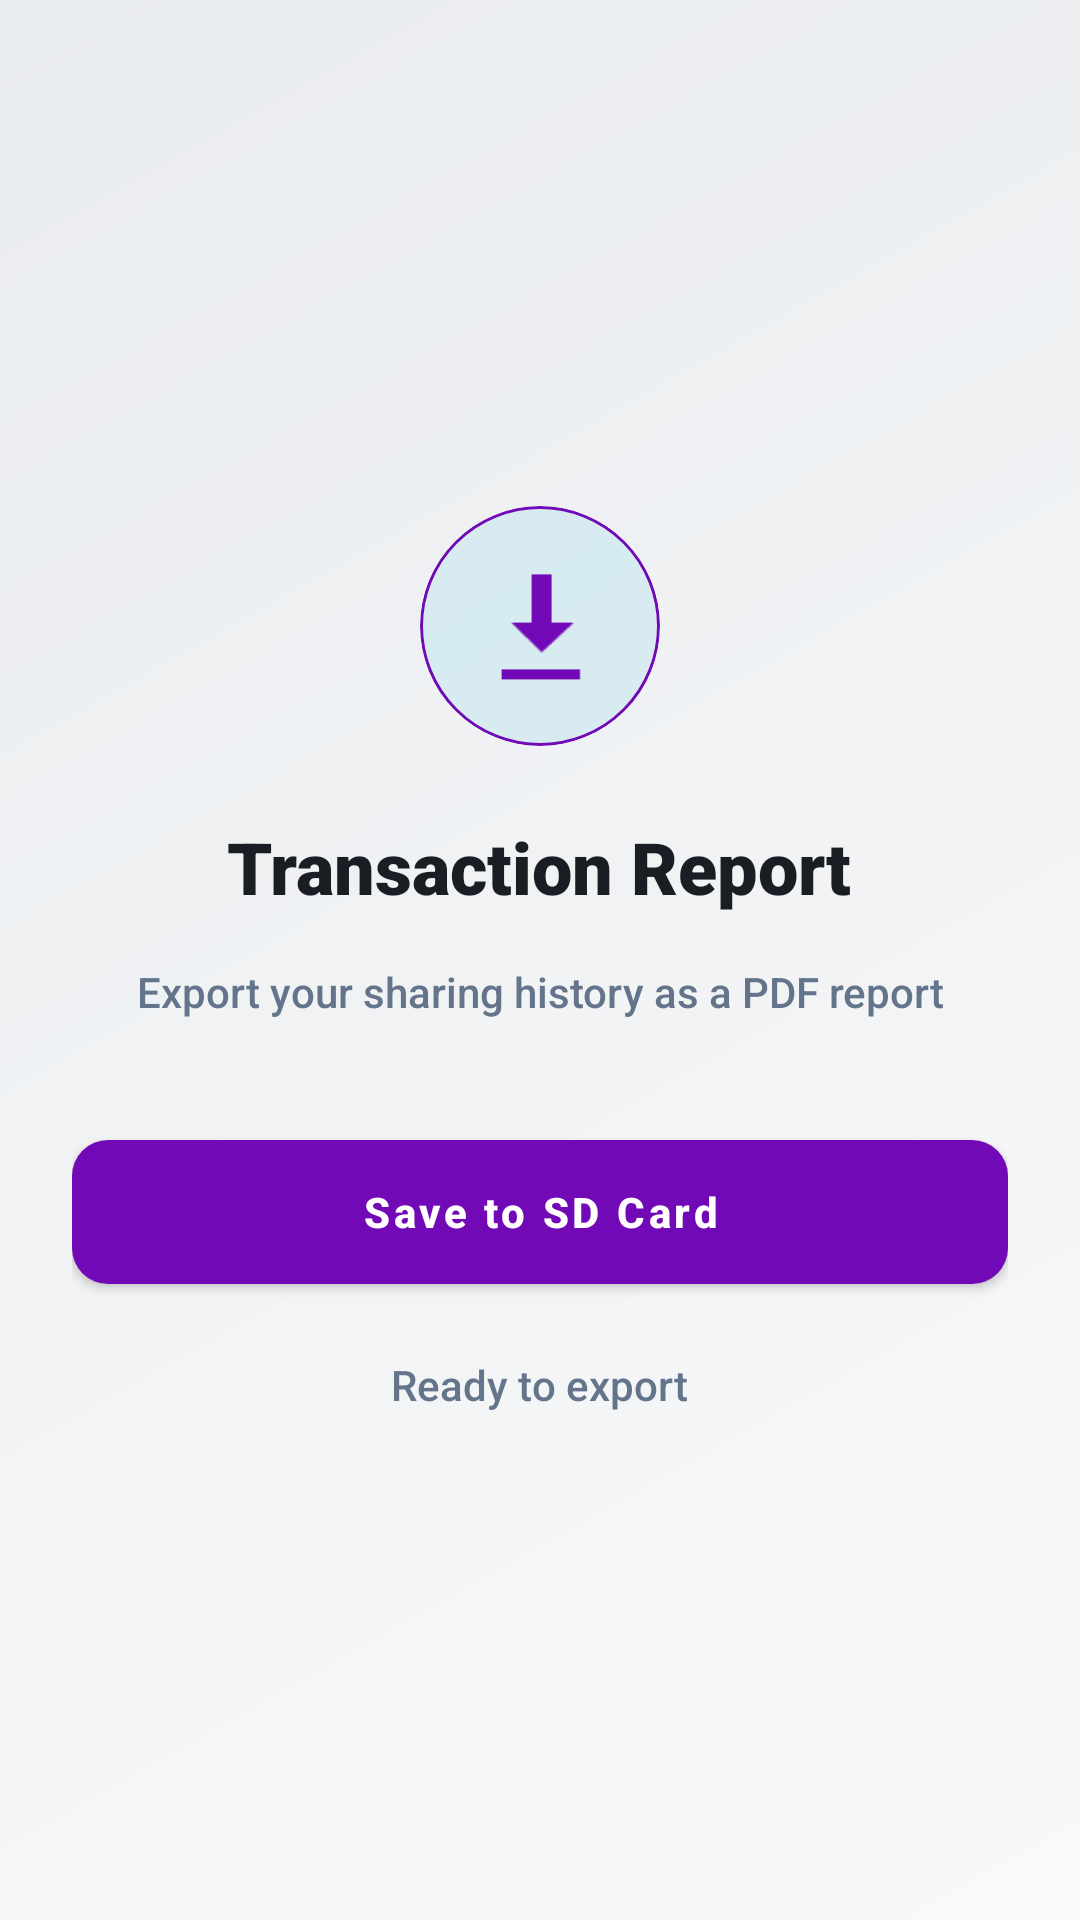

Icon bounding boxes for this 1080x1920 phone screenshot, format (x1, y1, x2, y2):
download: (501, 574, 581, 680)
